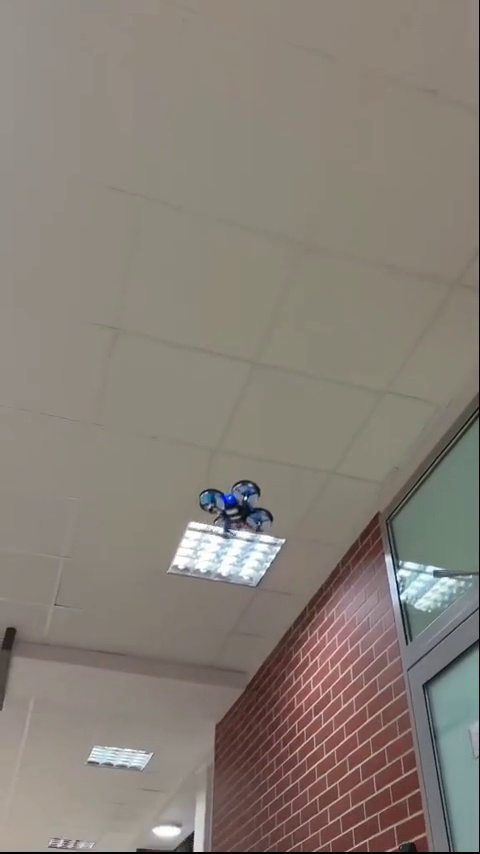drone: (194, 479, 282, 542)
